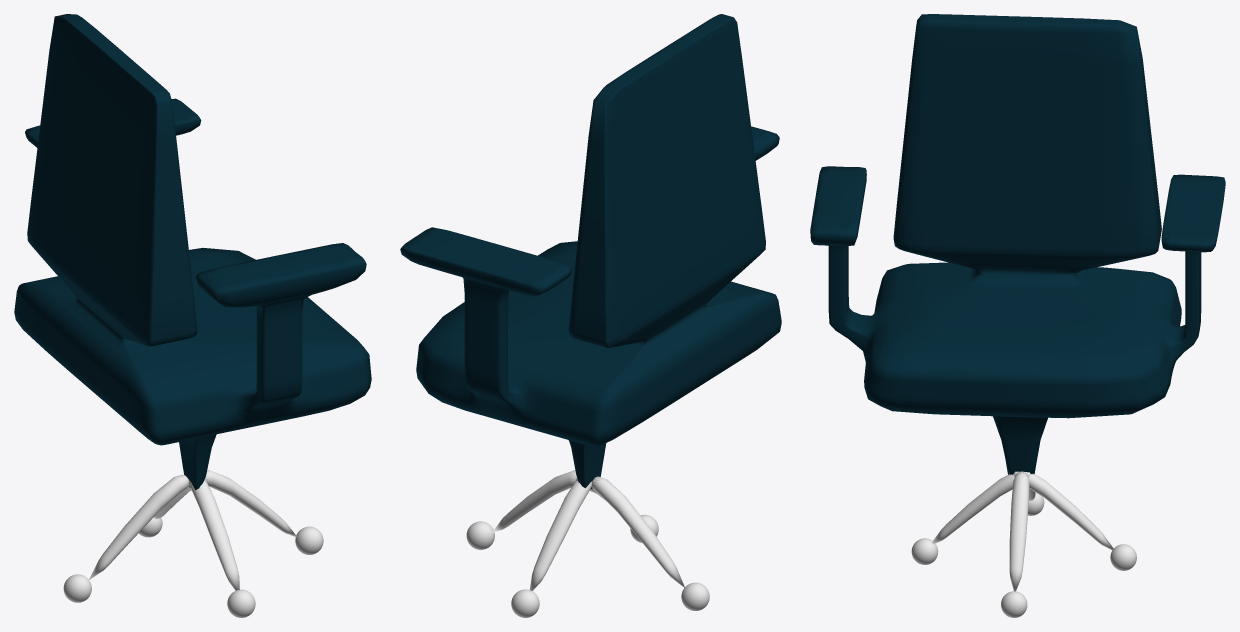
The model's file is Office_Chair.fbx.
3 renders of one model, left to right at view 1: azimuth 30°, elevation 25°; view 2: azimuth 150°, elevation 25°; view 3: azimuth 270°, elevation 25°, orthographic. The views are drawn at different scales.
Parts seen in each view (by area): view 1: Sphere.002; view 2: Sphere.002; view 3: Sphere.002.
Boxes of the visible parts, left/top/right/bottom form: Sphere.002: left=14, top=14, right=371, bottom=617; Sphere.002: left=400, top=14, right=781, bottom=617; Sphere.002: left=810, top=14, right=1225, bottom=617.
Size of the model in its own units: 134 by 281 by 208.
